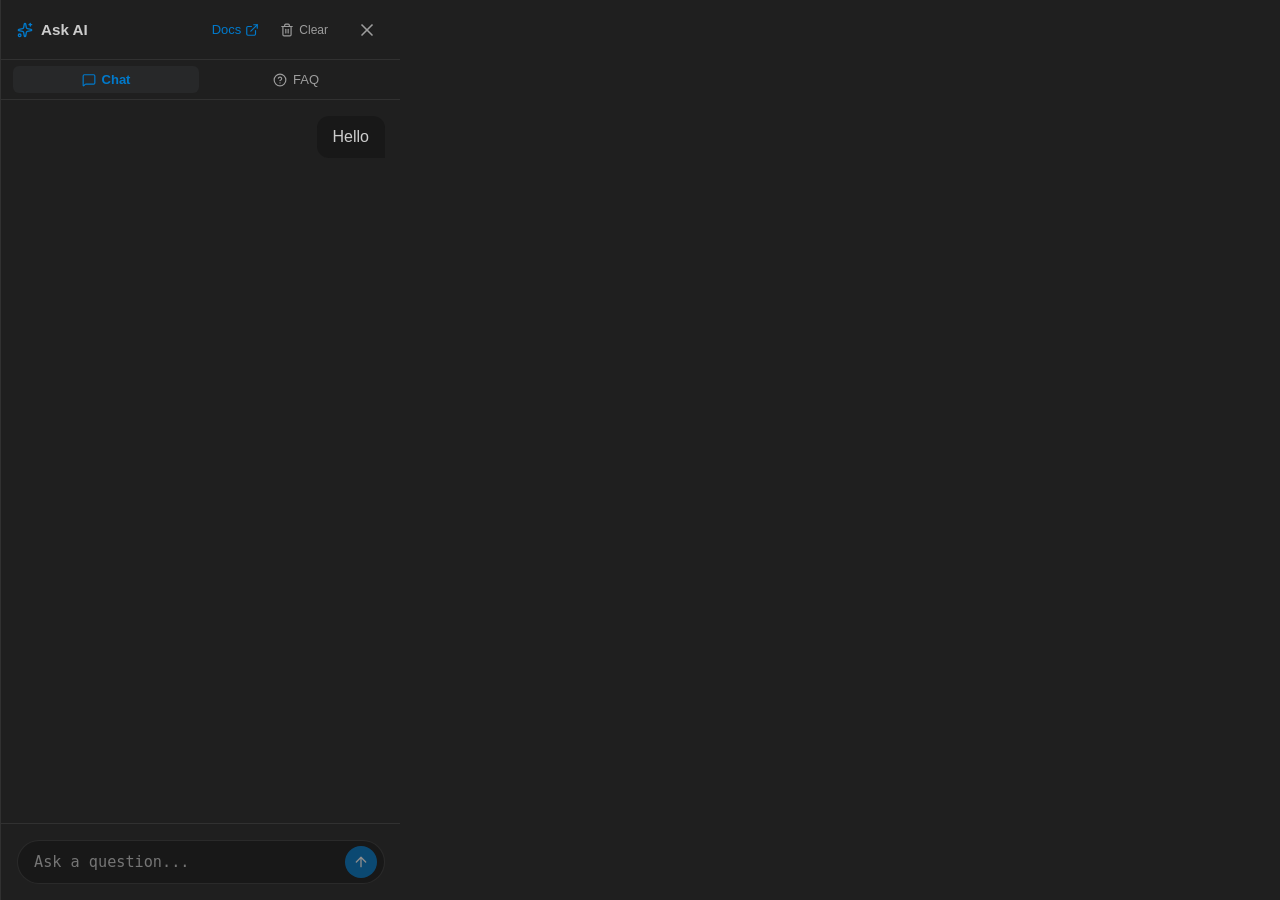
it: Assistant Clear Chat Feature › opens confirmation modal when clicking clear button
The image size is (1280, 900).
Step 1. Click the button with aria-label "clear chat history" → (304, 30), box [271, 18, 337, 42]
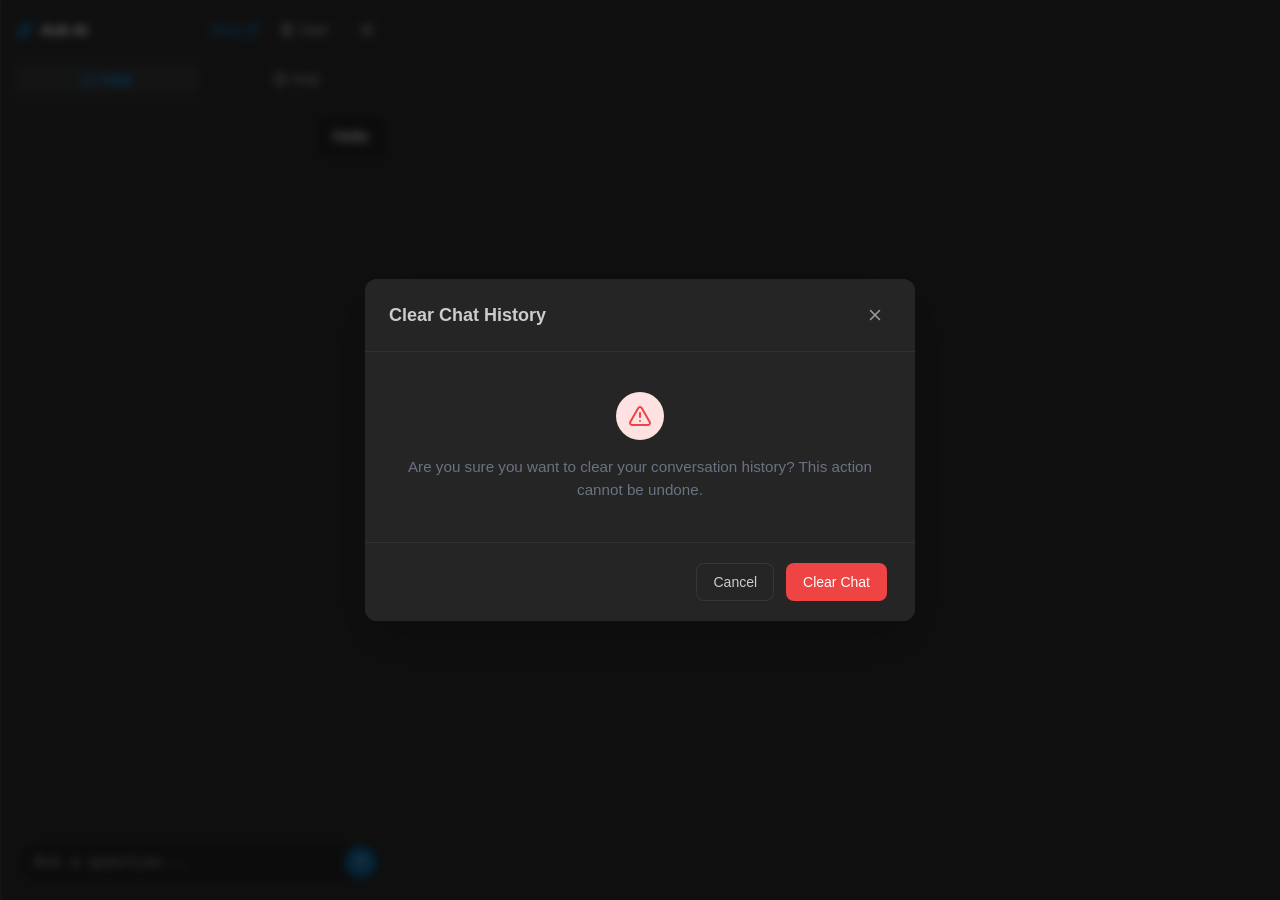
expect the heading "Clear Chat History" is shown: met, box [389, 305, 546, 326]
expect the text "Are you sure you want to clear your conversation history? This action cannot be undone." is shown: met, box [408, 458, 872, 498]
